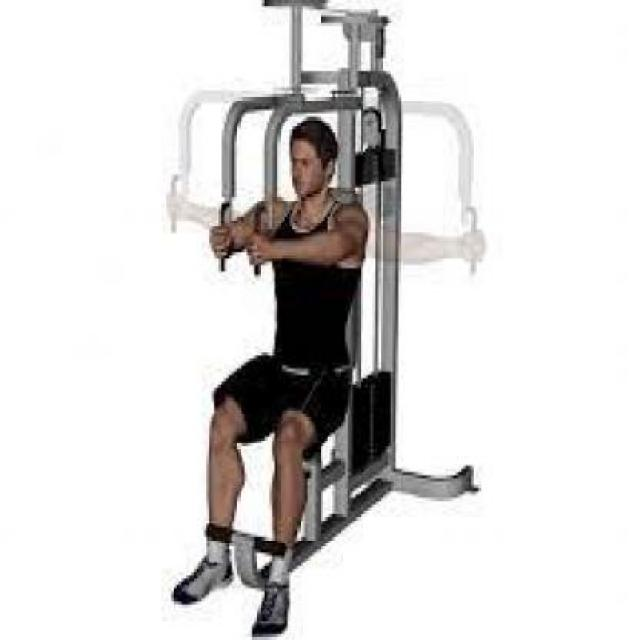chest fly machine: (154, 0, 489, 640)
